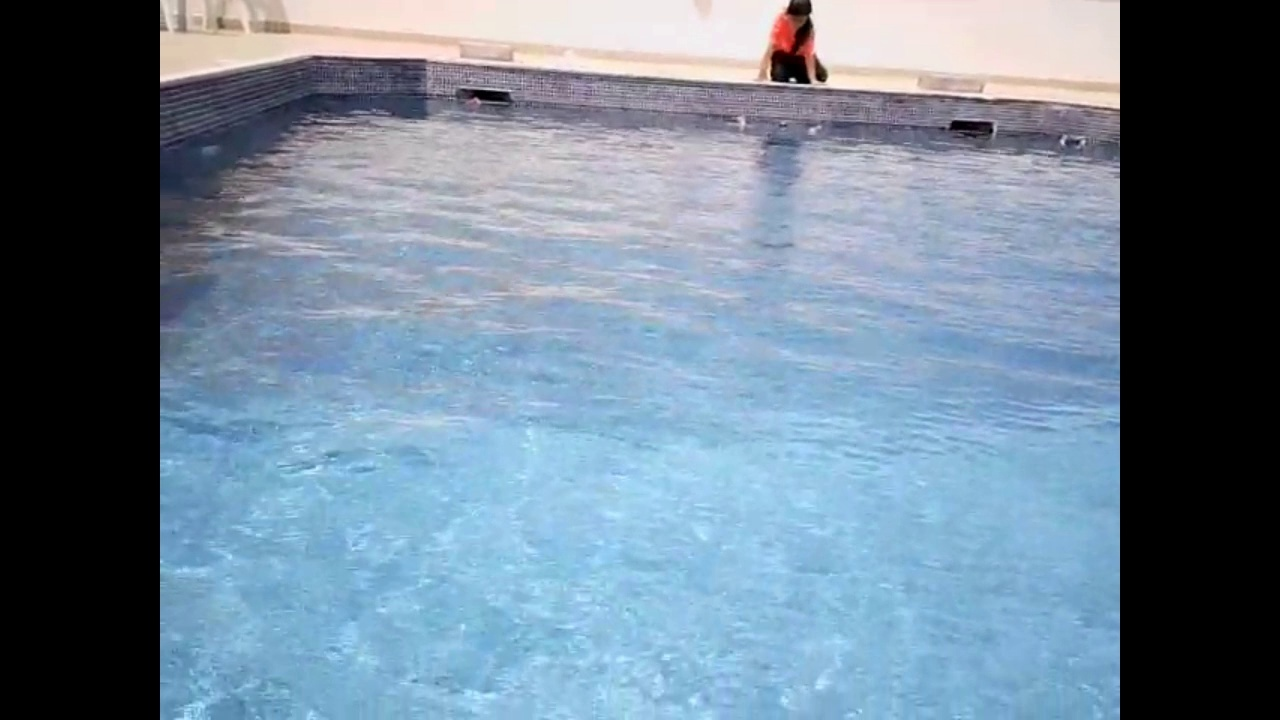debris: (1056, 130, 1092, 155), (801, 114, 832, 137), (721, 108, 749, 130), (455, 92, 480, 114), (773, 118, 790, 140)
